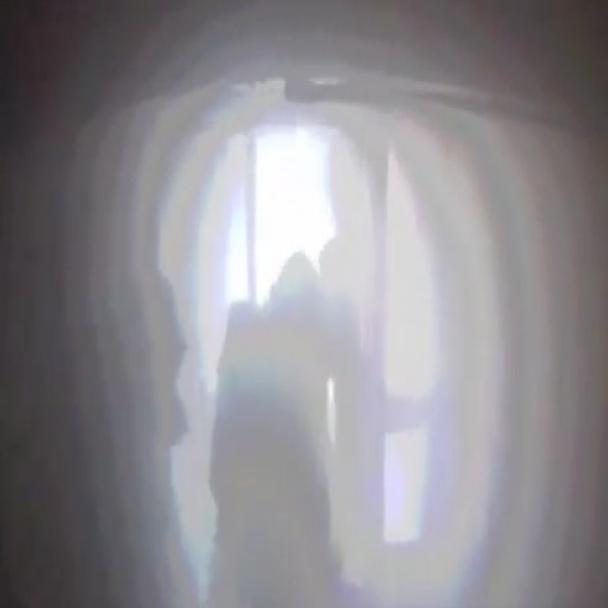smoke: (118, 37, 606, 606)
